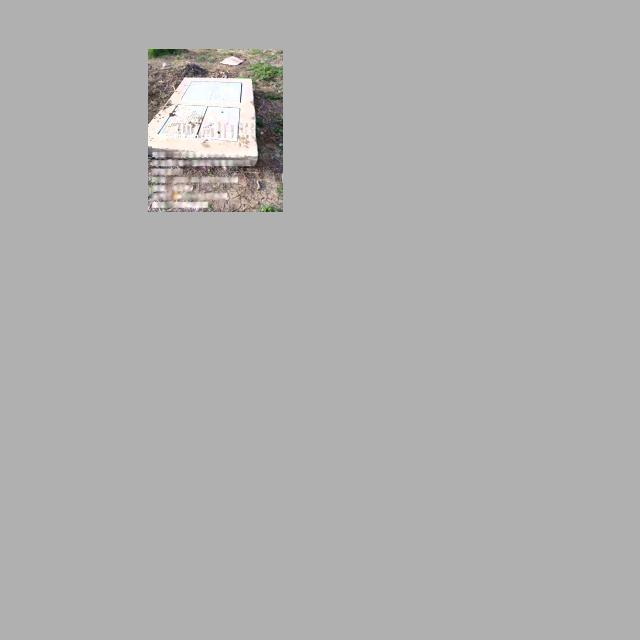good: (155, 104, 241, 142), (179, 80, 243, 104)
